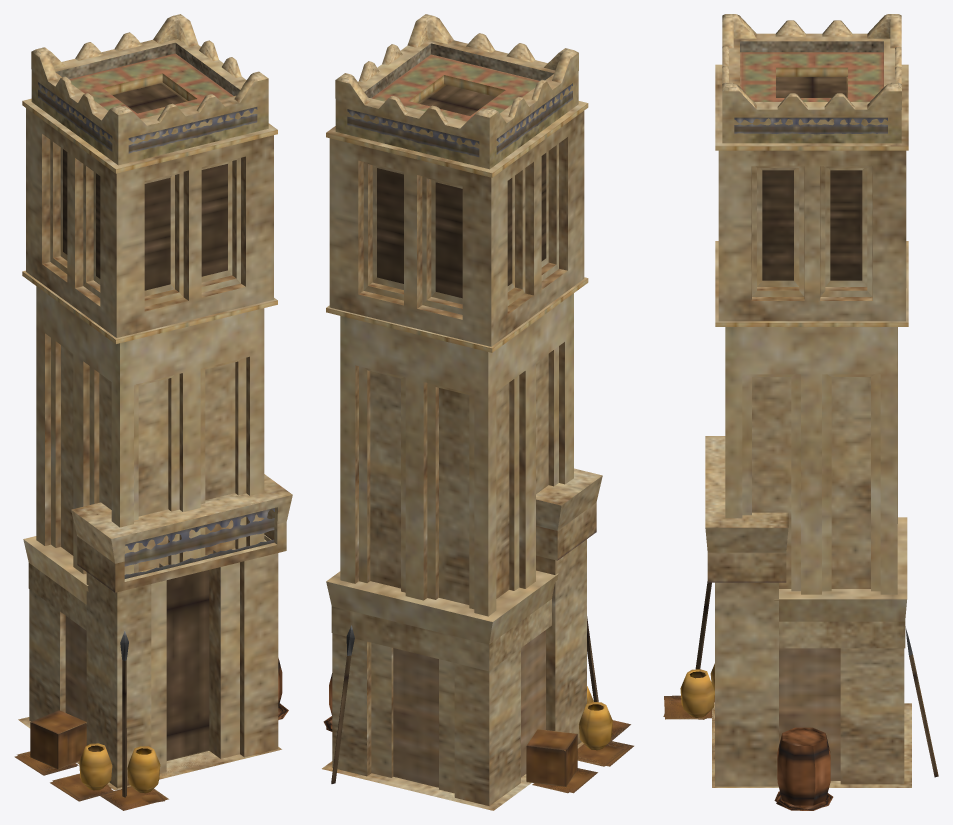
File: build-tower.glb
3 views of the same model, side by side, from view 1: azimuth 30°, elevation 25°; view 2: azimuth 150°, elevation 25°; view 3: azimuth 270°, elevation 25° (orthographic). The views are drawn at different scales.
Bounding box in the file's own units: 0.1742 × 0.44 × 0.158.
Materials: 1 (1 with a texture image).
